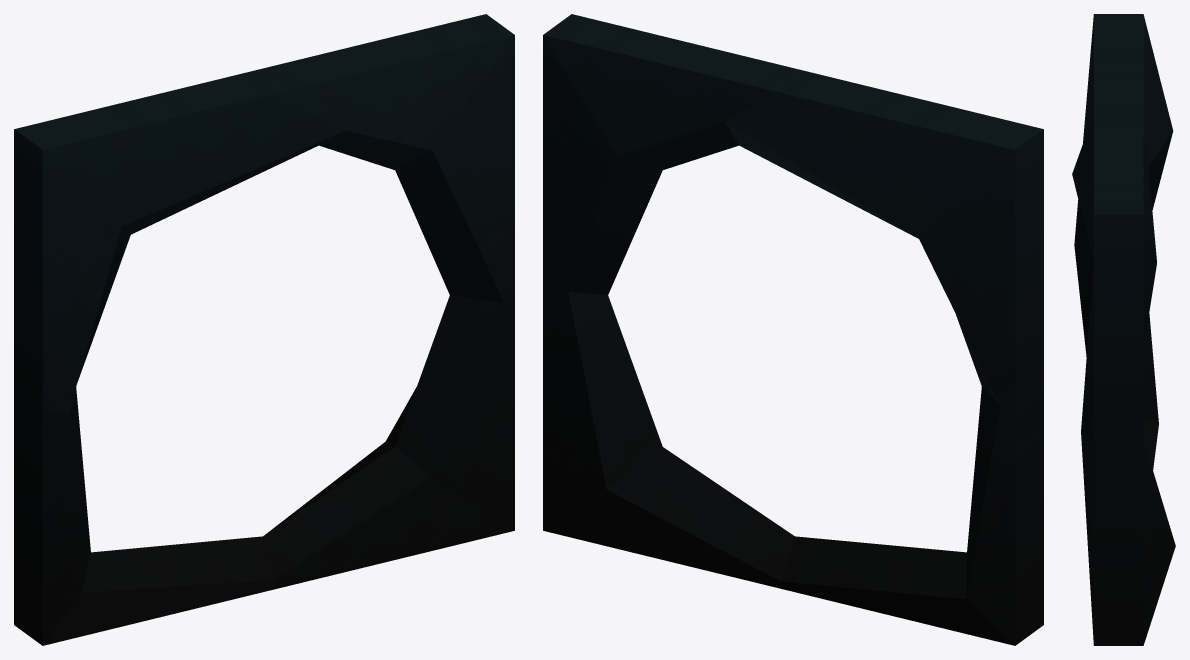
File: MOD_HoleWall.fbx
3 renders of one model, left to right at view 1: azimuth 30°, elevation 25°; view 2: azimuth 150°, elevation 25°; view 3: azimuth 270°, elevation 25°, orthographic. The views are drawn at different scales.
Parts seen in each view (by area): view 1: MOD_HoleWall; view 2: MOD_HoleWall; view 3: MOD_HoleWall.
Boxes of the visible parts, x1=… form: MOD_HoleWall: x1=14, y1=14, x2=514, y2=645; MOD_HoleWall: x1=543, y1=14, x2=1043, y2=645; MOD_HoleWall: x1=1072, y1=14, x2=1175, y2=645.
Bounding box in the file's own units: 6.13 × 6.16 × 1.34.
